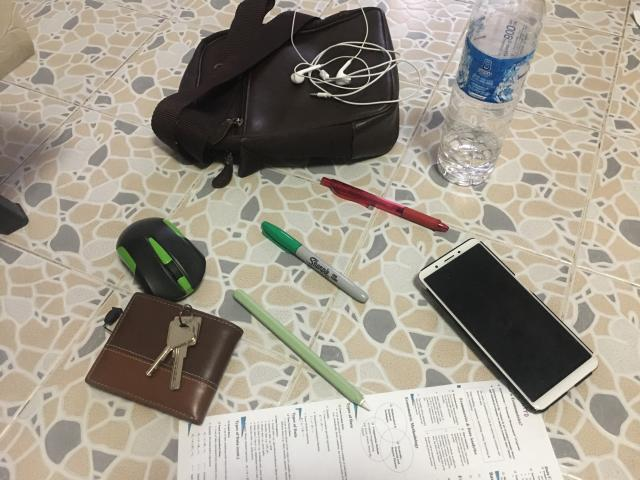Keys: (146, 310, 201, 390)
Mobile phone: (419, 239, 598, 411)
Mouse: (116, 218, 206, 301)
Pen: (261, 221, 369, 302), (321, 178, 449, 232)
Wallet: (85, 292, 242, 424)
bottle: (438, 0, 545, 186)
paper: (177, 374, 561, 479)
wire: (290, 0, 421, 106)
